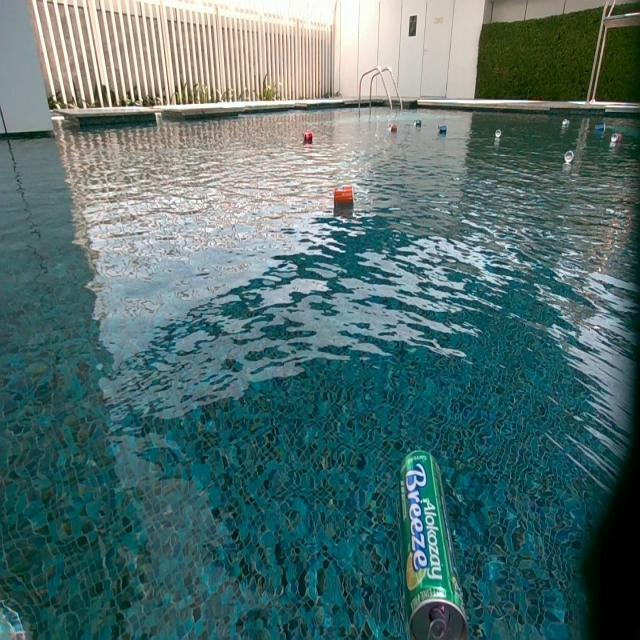Cans: (398, 449, 468, 640), (335, 186, 354, 205), (304, 132, 315, 145), (613, 134, 624, 146), (564, 150, 574, 163), (595, 125, 606, 136), (560, 118, 570, 128), (440, 125, 449, 136), (415, 118, 423, 128), (388, 124, 396, 134), (494, 131, 502, 139)
